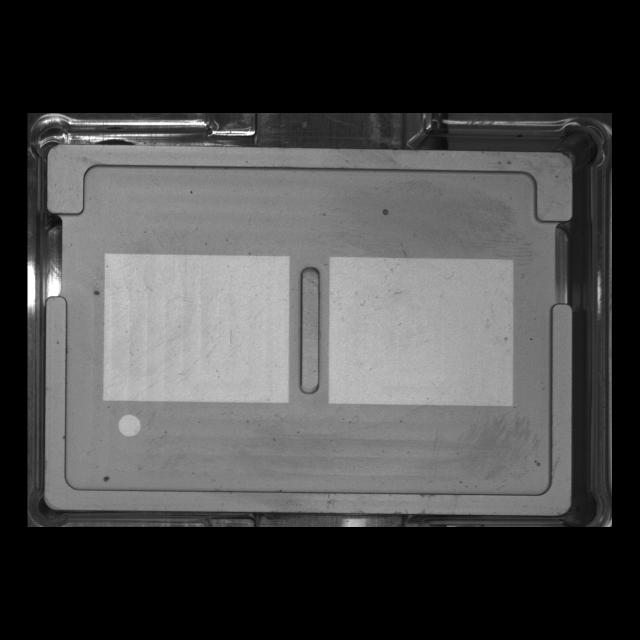door: (36, 132, 586, 236)
point: (115, 410, 145, 442)
